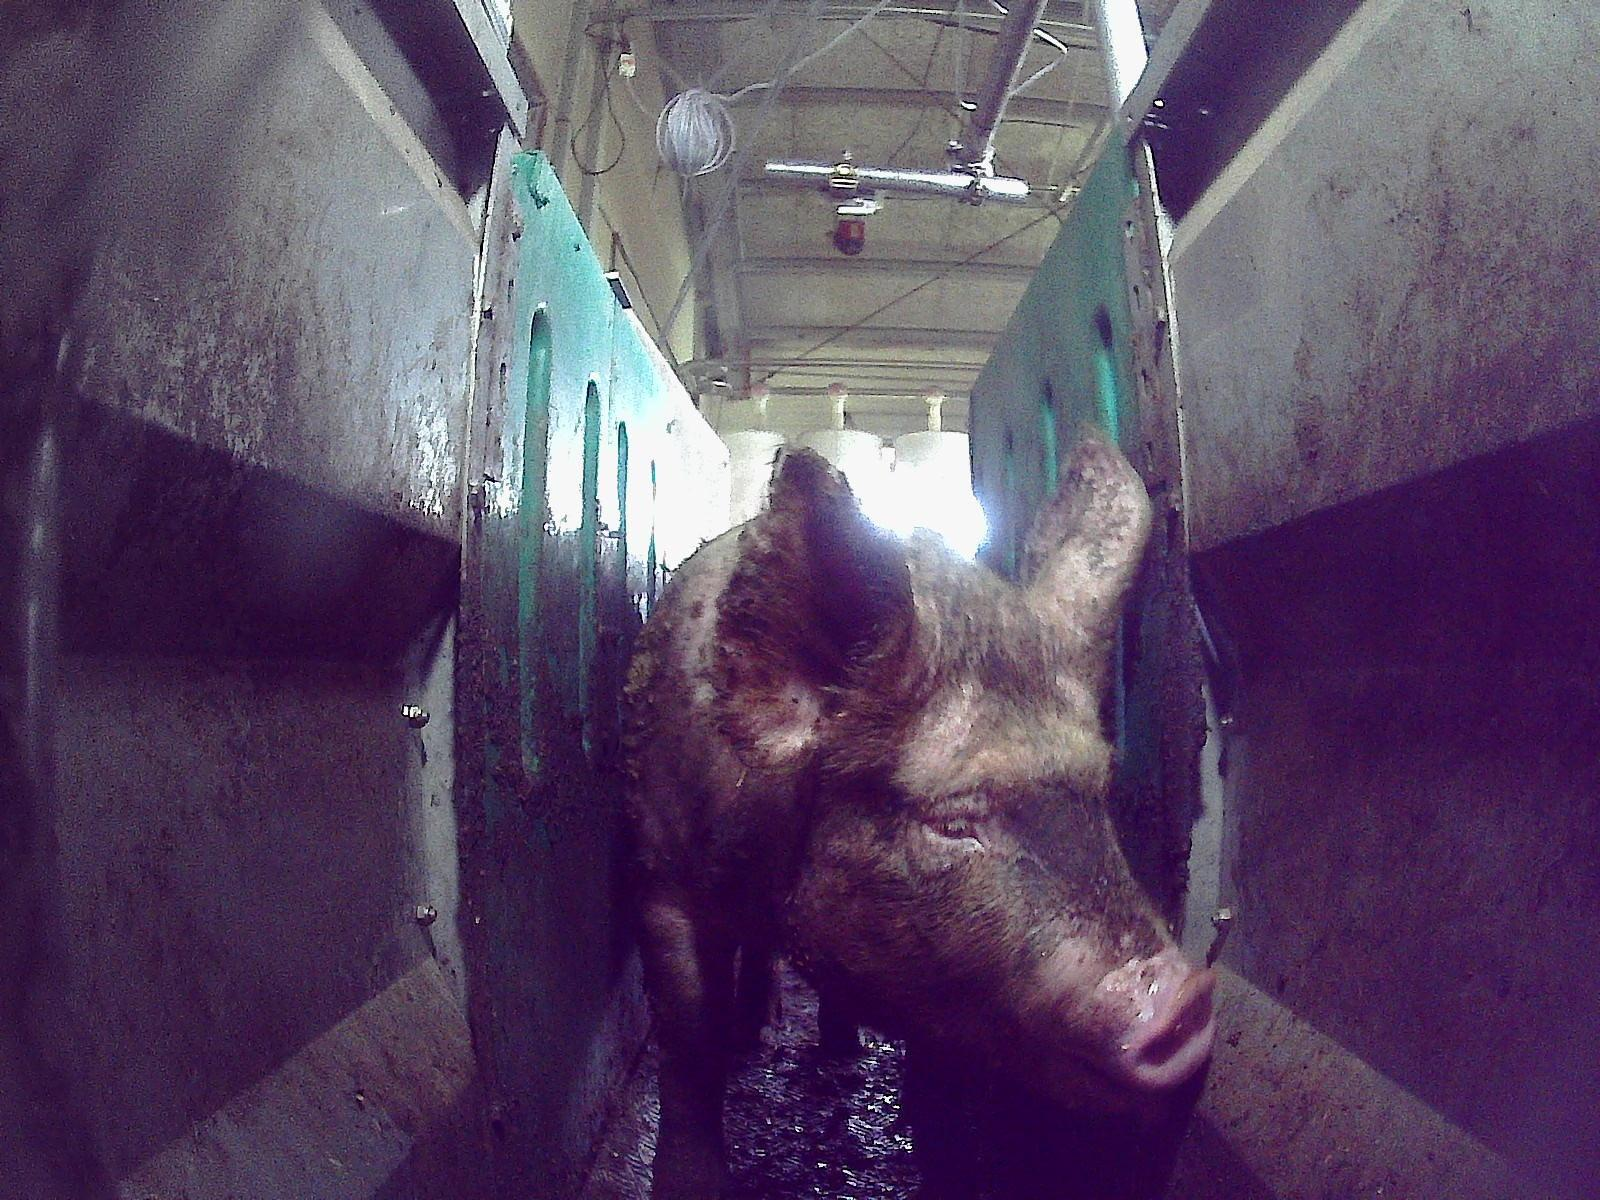Face: (810, 582, 1215, 1120)
